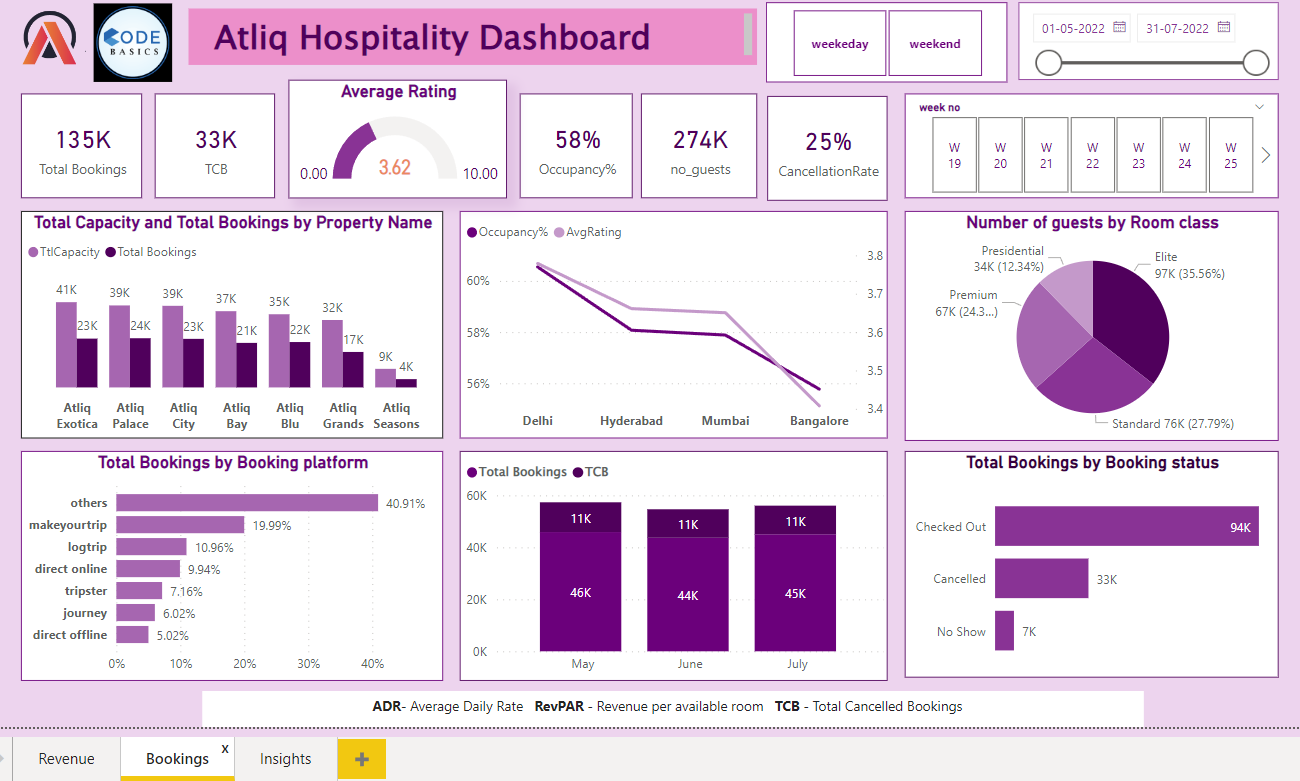

Layout of this report page (visuals, bound fields, positions):
{"tool":"powerbi","page":{"name":"Bookings","canvas":[1280,720],"ordinal":1},"visuals":[{"type":"image","box":[79.5,7.3,108.8,86.8],"z":0},{"type":"image","box":[0,2.4,99,86.8],"z":1000},{"type":"slicer","fields":{"Values":["dim_date.date"]},"box":[999.9,11,254.3,75.8],"z":2000},{"type":"card","fields":{"Values":["fact_aggregated_bookings.Occupancy%"]},"box":[512.2,100.2,110,102.7],"z":3000},{"type":"card","fields":{"Values":["fact_bookings.Cancellation Rate"]},"box":[754.2,102.7,117.4,102.7],"z":4000},{"type":"card","fields":{"Values":["Sum(fact_bookings.no_guests)"]},"box":[630.8,100.2,113.7,102.7],"z":5000},{"type":"textbox","box":[188.3,17.1,556.2,55],"z":6000},{"type":"clusteredColumnChart","title":"Total Capacity and Total Bookings by Property Name","fields":{"Y":["fact_aggregated_bookings.TtlCapacity","fact_bookings.TotalBookings"],"Category":["dim_hotels.property_name"]},"box":[24.4,215.1,413.2,222.5],"z":7000},{"type":"textbox","box":[201.7,684.6,920.5,35.4],"z":8000},{"type":"slicer","fields":{"Values":["dim_date.day_type"]},"box":[753,11,235.9,78.2],"z":9000},{"type":"lineChart","title":"Occupancy% and AvgRating by Room class","fields":{"Y":["fact_aggregated_bookings.Occupancy%"],"Y2":["fact_bookings.AvgRating"],"Category":["dim_hotels.city"]},"box":[453.5,215.1,418.1,222.5],"z":10000},{"type":"slicer","fields":{"Values":["dim_date.week no"]},"box":[888.7,100.2,365.5,102.7],"z":11000},{"type":"card","fields":{"Values":["fact_bookings.TtlCancBookings"]},"box":[155.2,100.2,117.4,102.7],"z":12000},{"type":"card","fields":{"Values":["fact_bookings.TotalBookings"]},"box":[24.4,100.2,118.6,102.7],"z":13000},{"type":"clusteredBarChart","title":"Total Bookings by Booking platform","fields":{"Category":["fact_bookings.booking_platform"],"Y":["fact_bookings.Total Bookings"]},"box":[24.4,449.8,413.2,224.9],"z":14000},{"type":"pieChart","title":"Number of guests by Room class","fields":{"Y":["Sum(fact_bookings.no_guests)"],"Category":["dim_rooms.room_class"]},"box":[888.7,215.1,365.5,224.9],"z":15000},{"type":"barChart","title":"Total Bookings by Booking status","fields":{"Category":["fact_bookings.booking_status"],"Y":["fact_bookings.Total Bookings"]},"box":[888.7,449.8,365.5,221.3],"z":16000},{"type":"columnChart","title":"Successful Bookings","fields":{"Category":["dim_date.date.Variation.Date Hierarchy.Year","dim_date.date.Variation.Date Hierarchy.Quarter","dim_date.date.Variation.Date Hierarchy.Month","dim_date.date.Variation.Date Hierarchy.Day"],"Y":["fact_bookings.Total Bookings","fact_bookings.TCB"]},"box":[453.5,449.8,418.1,224.9],"z":17000},{"type":"gauge","title":"Average Rating","fields":{"Y":["fact_bookings.AvgRating"]},"box":[286,86.8,213.9,116.1],"z":18000}]}

Visuals, with their boxes on the page's 1280x720 design canvas (x1, y1, x2, y2). These are canvas units, not pixel positions in the 1300x781 screenshot, which may show the page scaled, cropped or inside an application window:
image: (x1=80, y1=7, x2=188, y2=94)
image: (x1=0, y1=2, x2=99, y2=89)
slicer - dim_date.date: (x1=1000, y1=11, x2=1254, y2=87)
card - fact_aggregated_bookings.Occupancy%: (x1=512, y1=100, x2=622, y2=203)
card - fact_bookings.Cancellation Rate: (x1=754, y1=103, x2=872, y2=205)
card - Sum(fact_bookings.no_guests): (x1=631, y1=100, x2=744, y2=203)
textbox: (x1=188, y1=17, x2=744, y2=72)
"Total Capacity and Total Bookings by Property Name" clusteredColumnChart: (x1=24, y1=215, x2=438, y2=438)
textbox: (x1=202, y1=685, x2=1122, y2=720)
slicer - dim_date.day_type: (x1=753, y1=11, x2=989, y2=89)
"Occupancy% and AvgRating by Room class" lineChart: (x1=454, y1=215, x2=872, y2=438)
slicer - dim_date.week no: (x1=889, y1=100, x2=1254, y2=203)
card - fact_bookings.TtlCancBookings: (x1=155, y1=100, x2=273, y2=203)
card - fact_bookings.TotalBookings: (x1=24, y1=100, x2=143, y2=203)
"Total Bookings by Booking platform" clusteredBarChart: (x1=24, y1=450, x2=438, y2=675)
"Number of guests by Room class" pieChart: (x1=889, y1=215, x2=1254, y2=440)
"Total Bookings by Booking status" barChart: (x1=889, y1=450, x2=1254, y2=671)
"Successful Bookings" columnChart: (x1=454, y1=450, x2=872, y2=675)
"Average Rating" gauge: (x1=286, y1=87, x2=500, y2=203)
